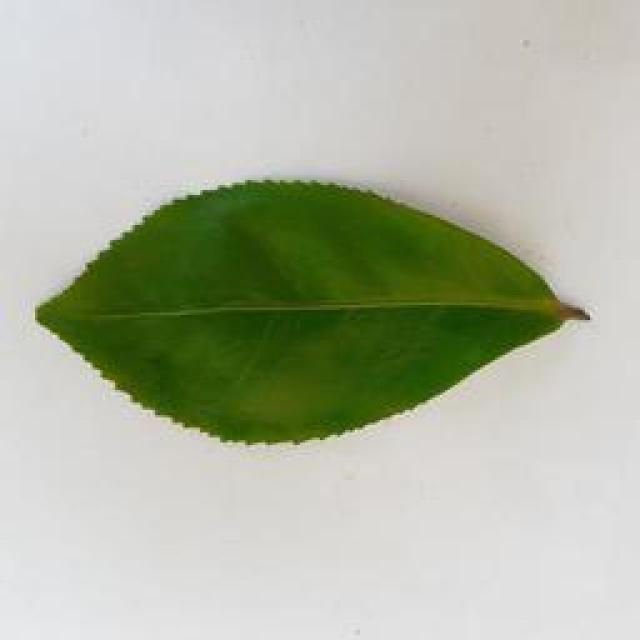Healthy: (25, 170, 614, 451)
